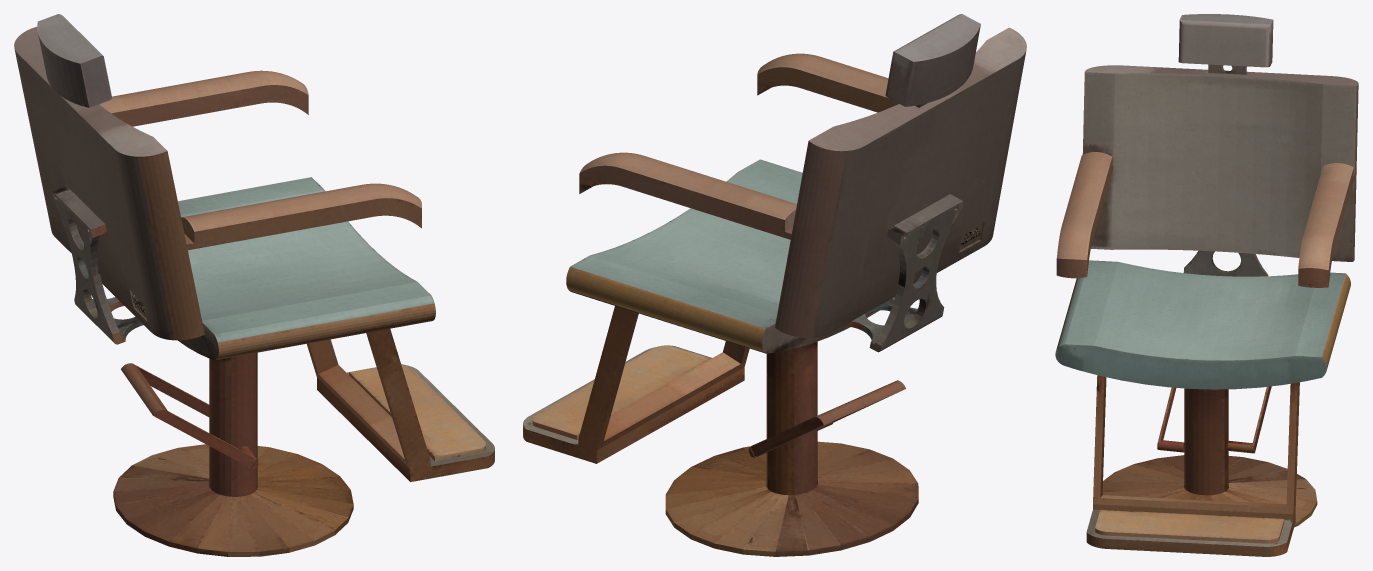
3 views of the same model, side by side, from view 1: azimuth 30°, elevation 25°; view 2: azimuth 150°, elevation 25°; view 3: azimuth 270°, elevation 25° (orthographic). The views are drawn at different scales.
Visible parts, largest first — view 1: Node; view 2: Node; view 3: Node.
Boxes of the visible parts, bbox=[...] form: Node: bbox=[14, 14, 494, 556]; Node: bbox=[523, 14, 1026, 556]; Node: bbox=[1055, 14, 1358, 556].
Size of the model in its own units: 0.584 by 0.7 by 0.4581.
Materials: 1 (1 with a texture image).
